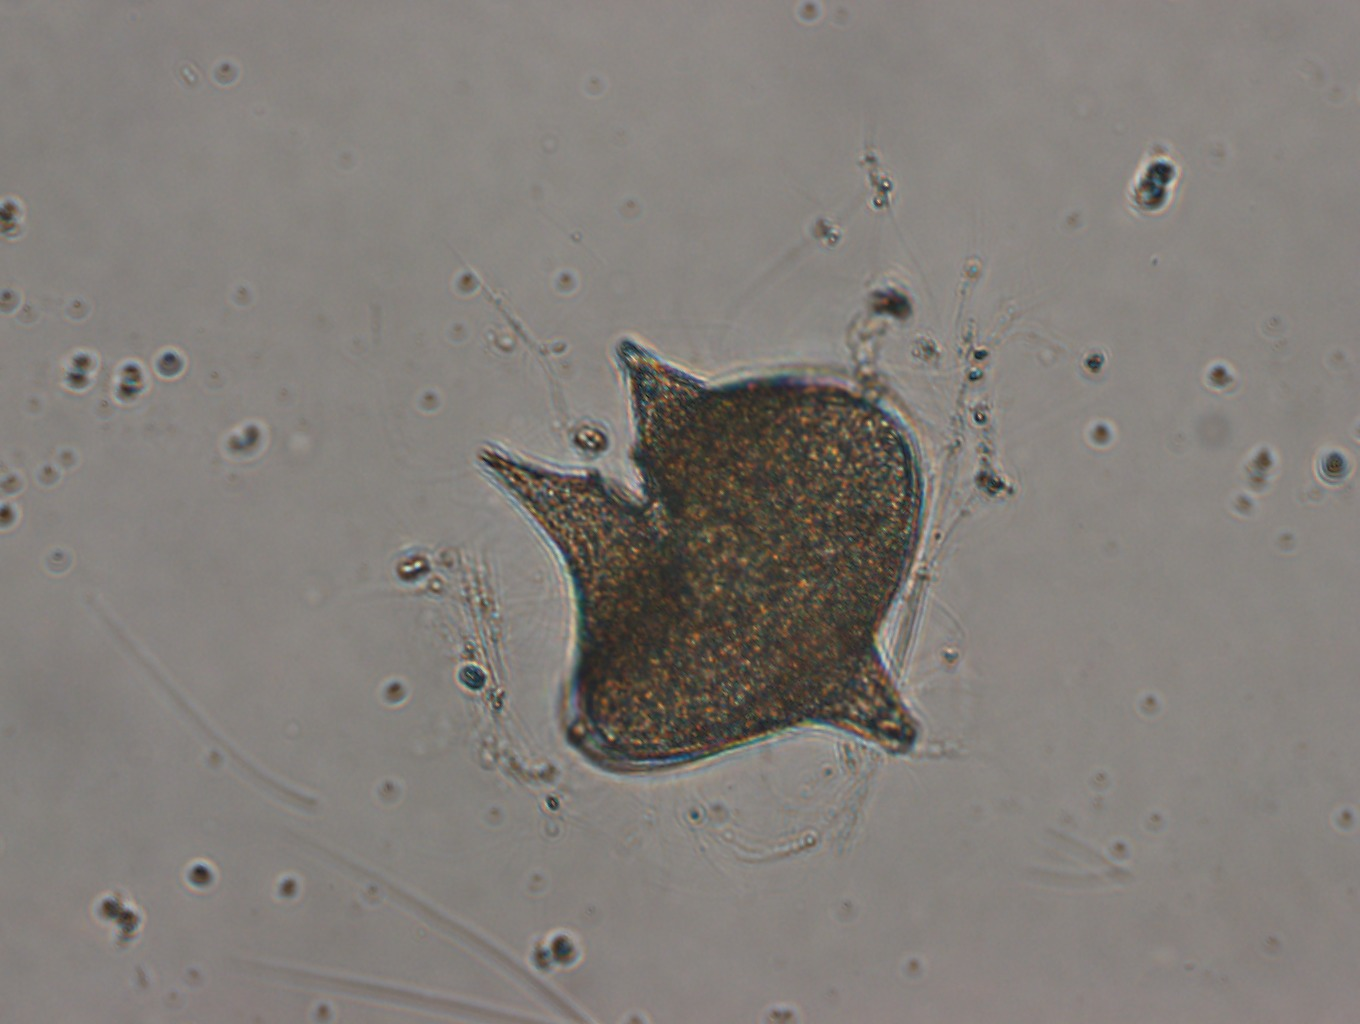protoperidinium: (474, 331, 929, 778)
